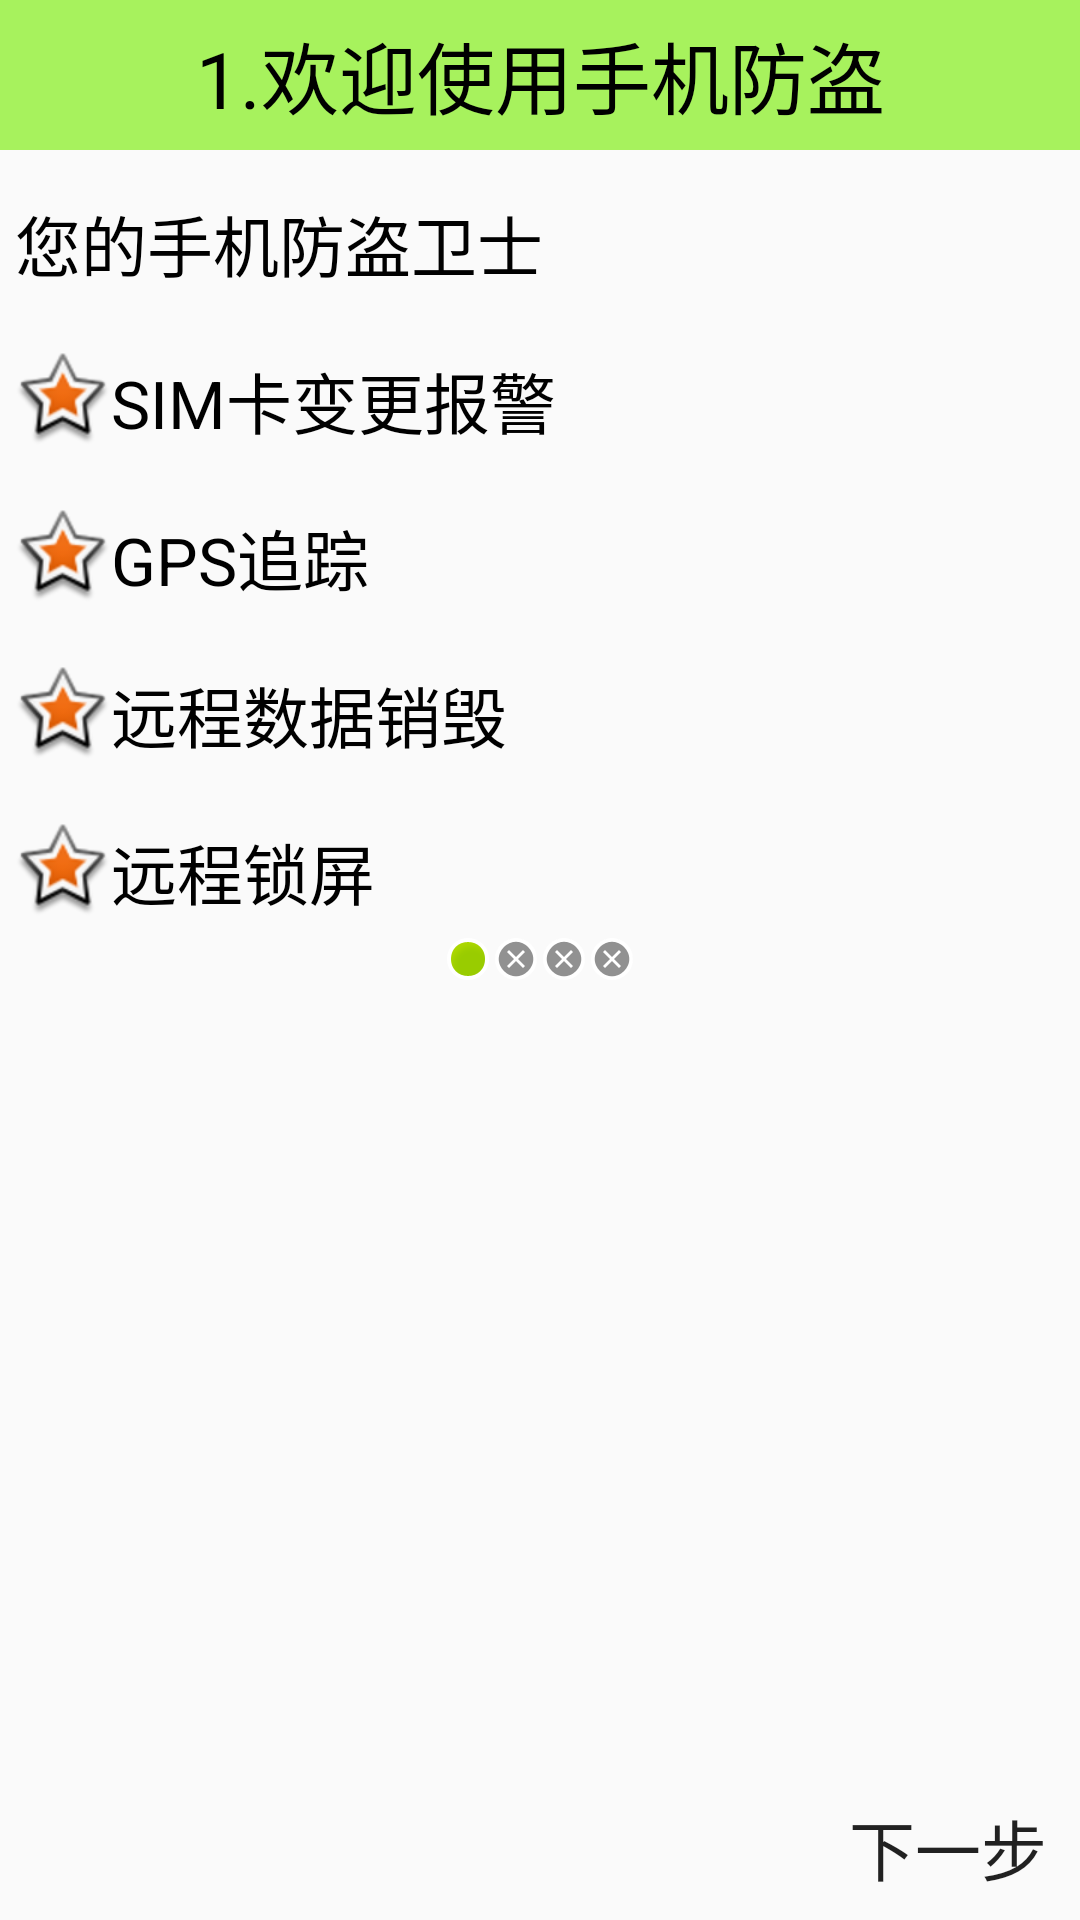

Locate icon controls on the screen. Image size 1080px x 1920px, boxes as (x1, y1, x2, y2).
presence offline: (499, 942, 533, 977), (547, 942, 581, 977), (595, 942, 629, 977)
presence online: (451, 942, 485, 976)
